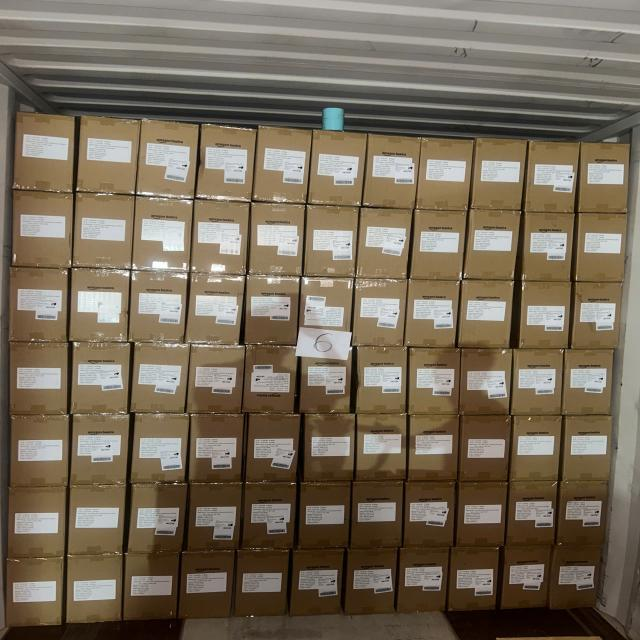Carton: (15, 109, 76, 193), (138, 118, 197, 199), (73, 194, 134, 272), (78, 116, 136, 197), (10, 264, 70, 342), (14, 189, 74, 267), (10, 341, 71, 415), (70, 342, 130, 417), (134, 197, 192, 274), (11, 413, 72, 486), (68, 270, 127, 345), (196, 126, 252, 205), (193, 199, 250, 275), (256, 128, 310, 208), (9, 485, 68, 558), (68, 416, 127, 488), (313, 132, 367, 210), (251, 201, 306, 276), (8, 556, 66, 627), (131, 415, 188, 487), (69, 485, 126, 557), (188, 275, 244, 348), (129, 274, 185, 346), (190, 342, 246, 414), (364, 132, 417, 208), (419, 136, 472, 212), (298, 276, 351, 352), (133, 343, 188, 416), (307, 206, 361, 280), (130, 484, 187, 554), (473, 136, 525, 212), (190, 415, 244, 487), (124, 552, 180, 621), (67, 553, 122, 623), (526, 141, 578, 215), (467, 211, 521, 282), (459, 278, 513, 349), (410, 211, 464, 282), (248, 414, 301, 486), (357, 209, 409, 282), (187, 484, 241, 554), (246, 278, 299, 349), (577, 142, 628, 215), (301, 411, 353, 482), (522, 280, 574, 351), (574, 211, 627, 280), (350, 482, 402, 552), (183, 551, 235, 621), (354, 411, 405, 482), (353, 278, 407, 345), (510, 346, 562, 415), (297, 484, 349, 553), (407, 282, 459, 351), (245, 344, 297, 413), (525, 214, 576, 284), (346, 548, 398, 616), (461, 414, 513, 482), (572, 283, 622, 353), (408, 347, 458, 417), (560, 412, 610, 482), (245, 486, 297, 553), (509, 413, 560, 481), (561, 346, 612, 414), (408, 414, 459, 482), (357, 347, 407, 416), (551, 547, 604, 612), (558, 479, 609, 546), (405, 484, 456, 551), (458, 484, 508, 552), (463, 346, 513, 414), (400, 546, 450, 614), (234, 549, 286, 614), (291, 550, 342, 616), (451, 544, 501, 611), (506, 481, 556, 547), (298, 351, 350, 413), (502, 546, 550, 612)
